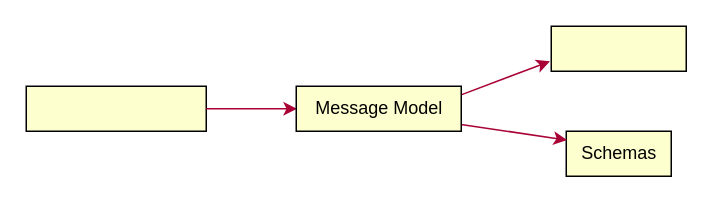
The diagram is 713 pixels wide and 203 high, and some of its shapes have lost their labels. Each missing label, with the box of its shape:
Information Model: (25, 85, 206, 131)
Specification: (550, 25, 686, 71)
